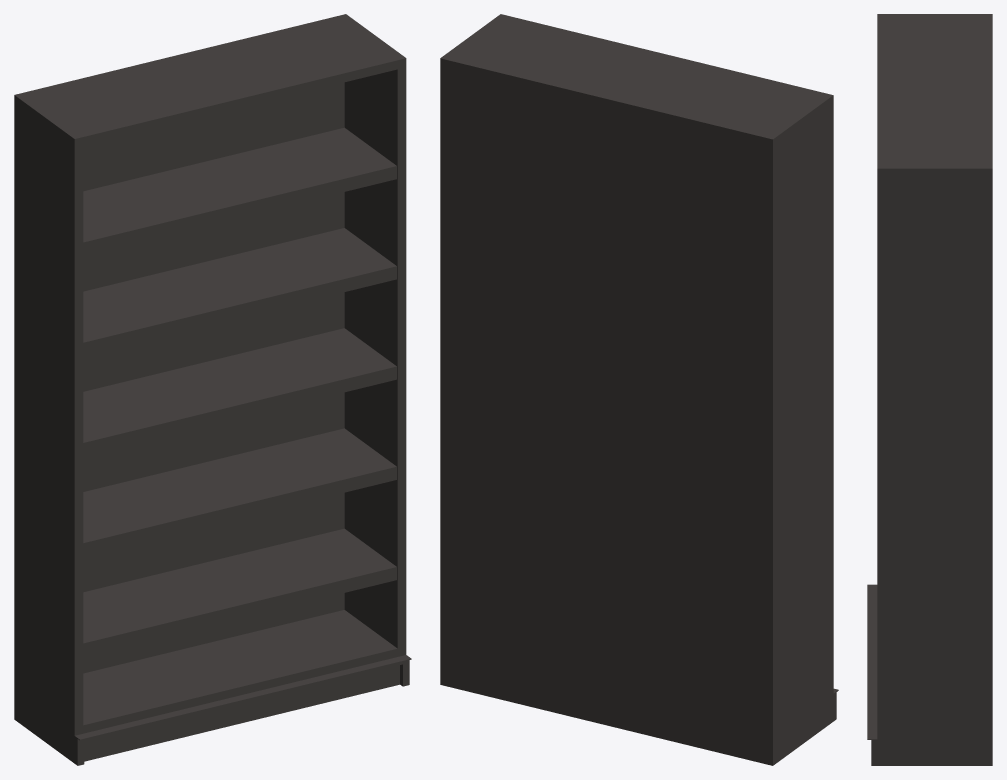
Rendered from Cupboard_05_01.fbx.
3 views of the same model, side by side, from view 1: azimuth 30°, elevation 25°; view 2: azimuth 150°, elevation 25°; view 3: azimuth 270°, elevation 25° (orthographic). The views are drawn at different scales.
Parts seen in each view (by area): view 1: Cupboard_05_01; view 2: Cupboard_05_01; view 3: Cupboard_05_01.
Boxes of the visible parts, x1,y1,x2,y2 form: Cupboard_05_01: (14, 14, 411, 765); Cupboard_05_01: (440, 14, 838, 765); Cupboard_05_01: (867, 14, 992, 765).
Bounding box in the file's own units: 115 × 208 × 39.57.
